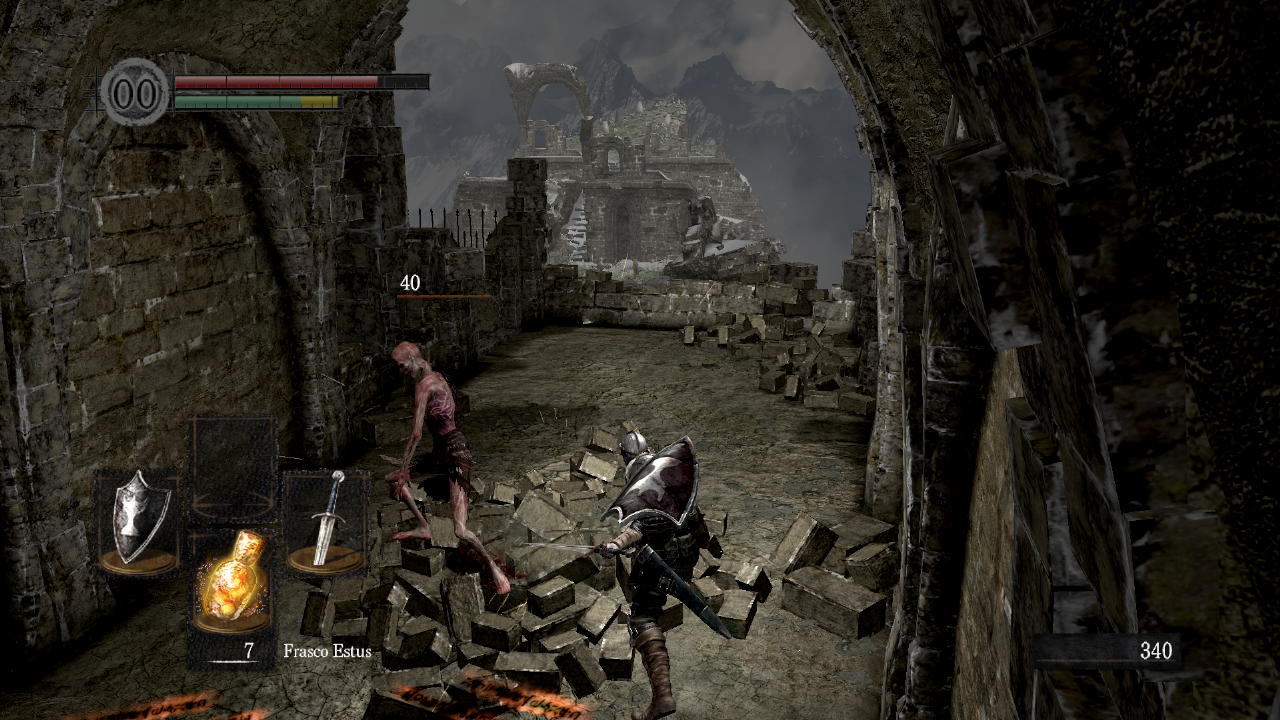hollow: (384, 339, 512, 595)
player: (522, 429, 733, 720)
